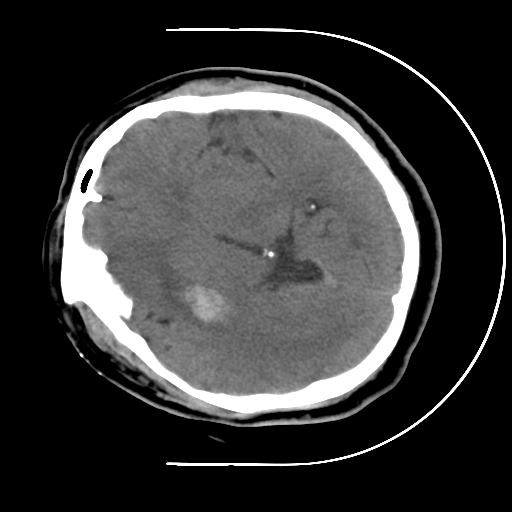a: (145, 247, 251, 342)
